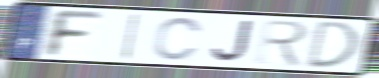C: (152, 16, 205, 62)
D: (304, 19, 362, 70)
F: (44, 7, 104, 59)
I: (119, 12, 142, 61)
J: (209, 19, 255, 64)
R: (254, 18, 310, 69)
